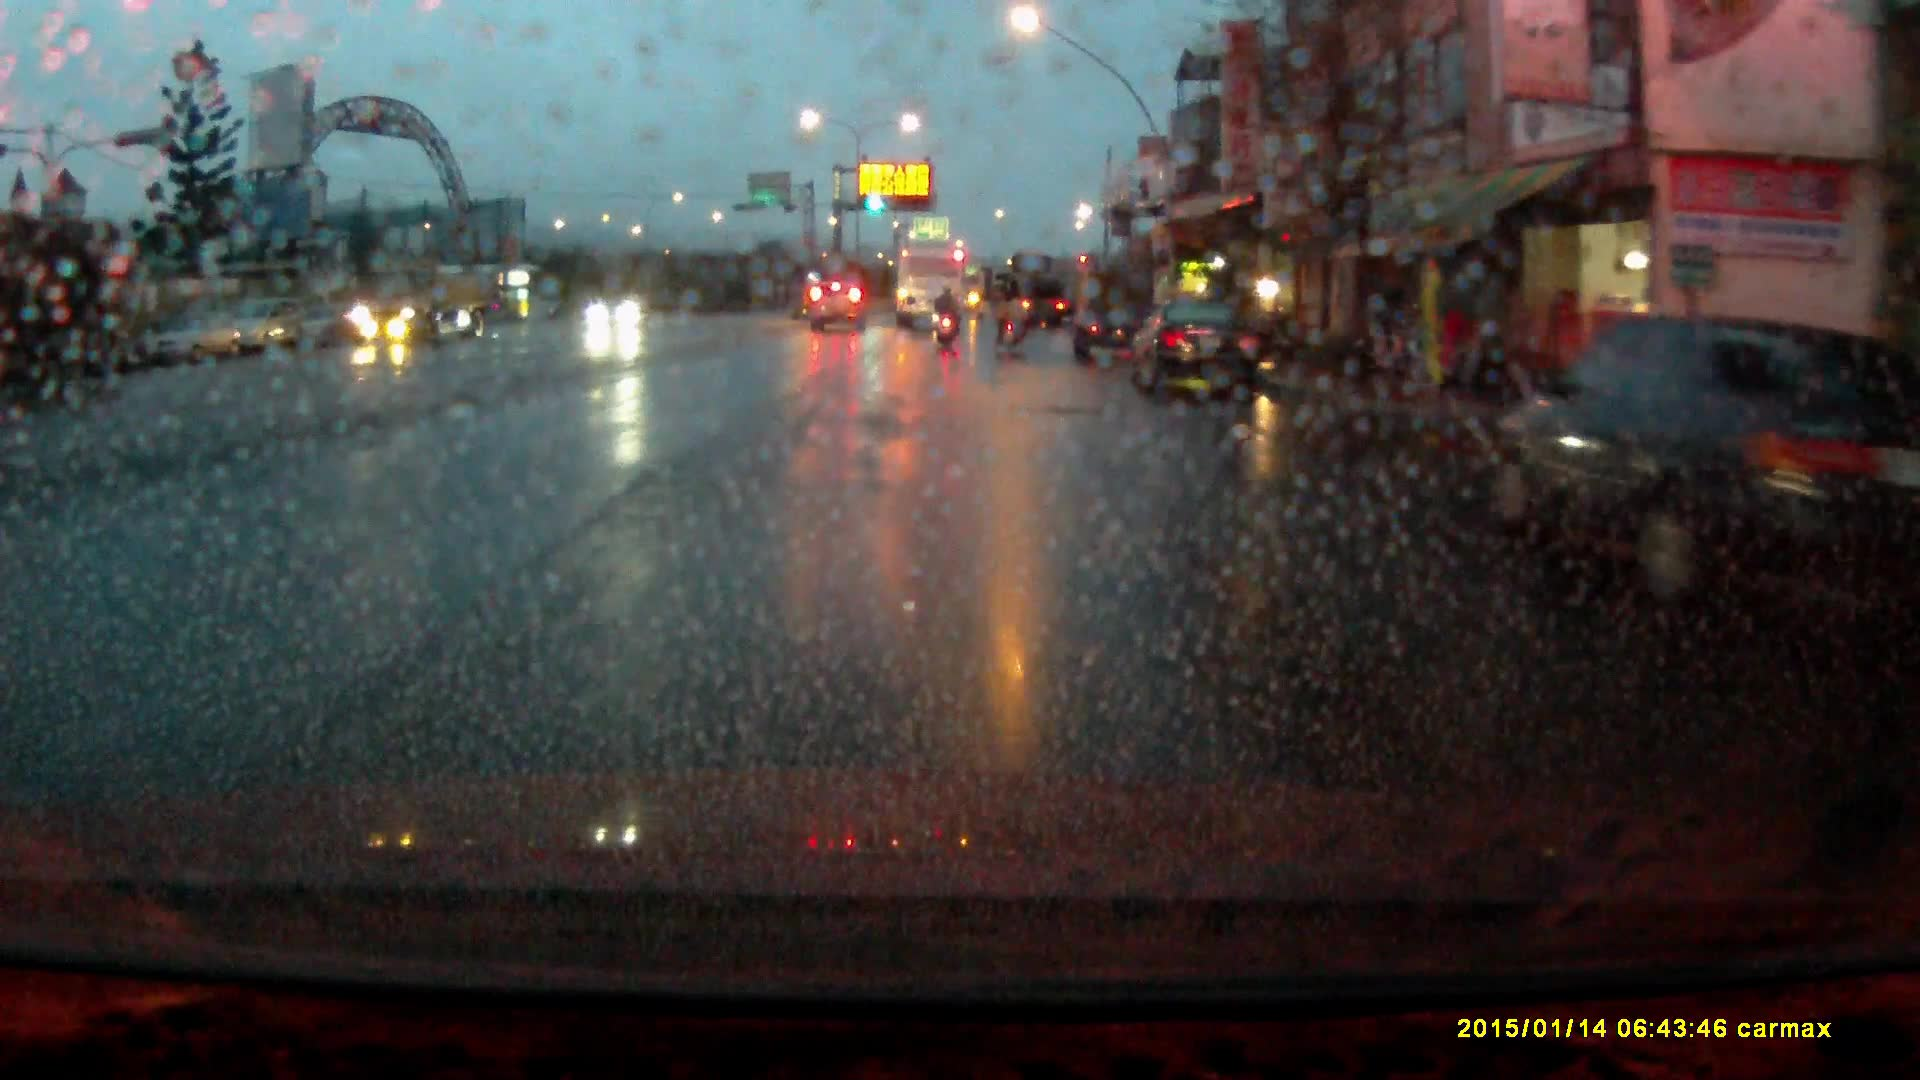rider: (992, 276, 1026, 358), (932, 287, 962, 351)
vehicle: (1467, 314, 1920, 609), (1134, 305, 1269, 402), (345, 264, 495, 347), (1070, 263, 1158, 364), (895, 246, 966, 334), (1004, 254, 1071, 331), (145, 310, 234, 368), (234, 300, 311, 353), (807, 279, 872, 337), (590, 293, 653, 331)
